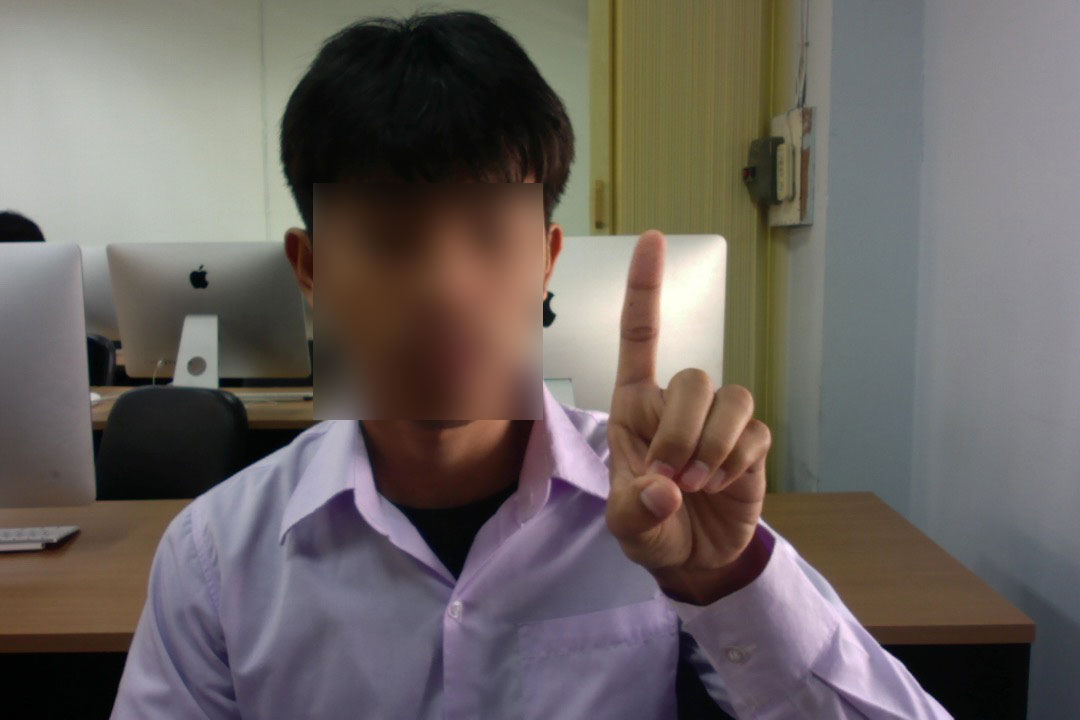dor: (586, 222, 785, 591)
